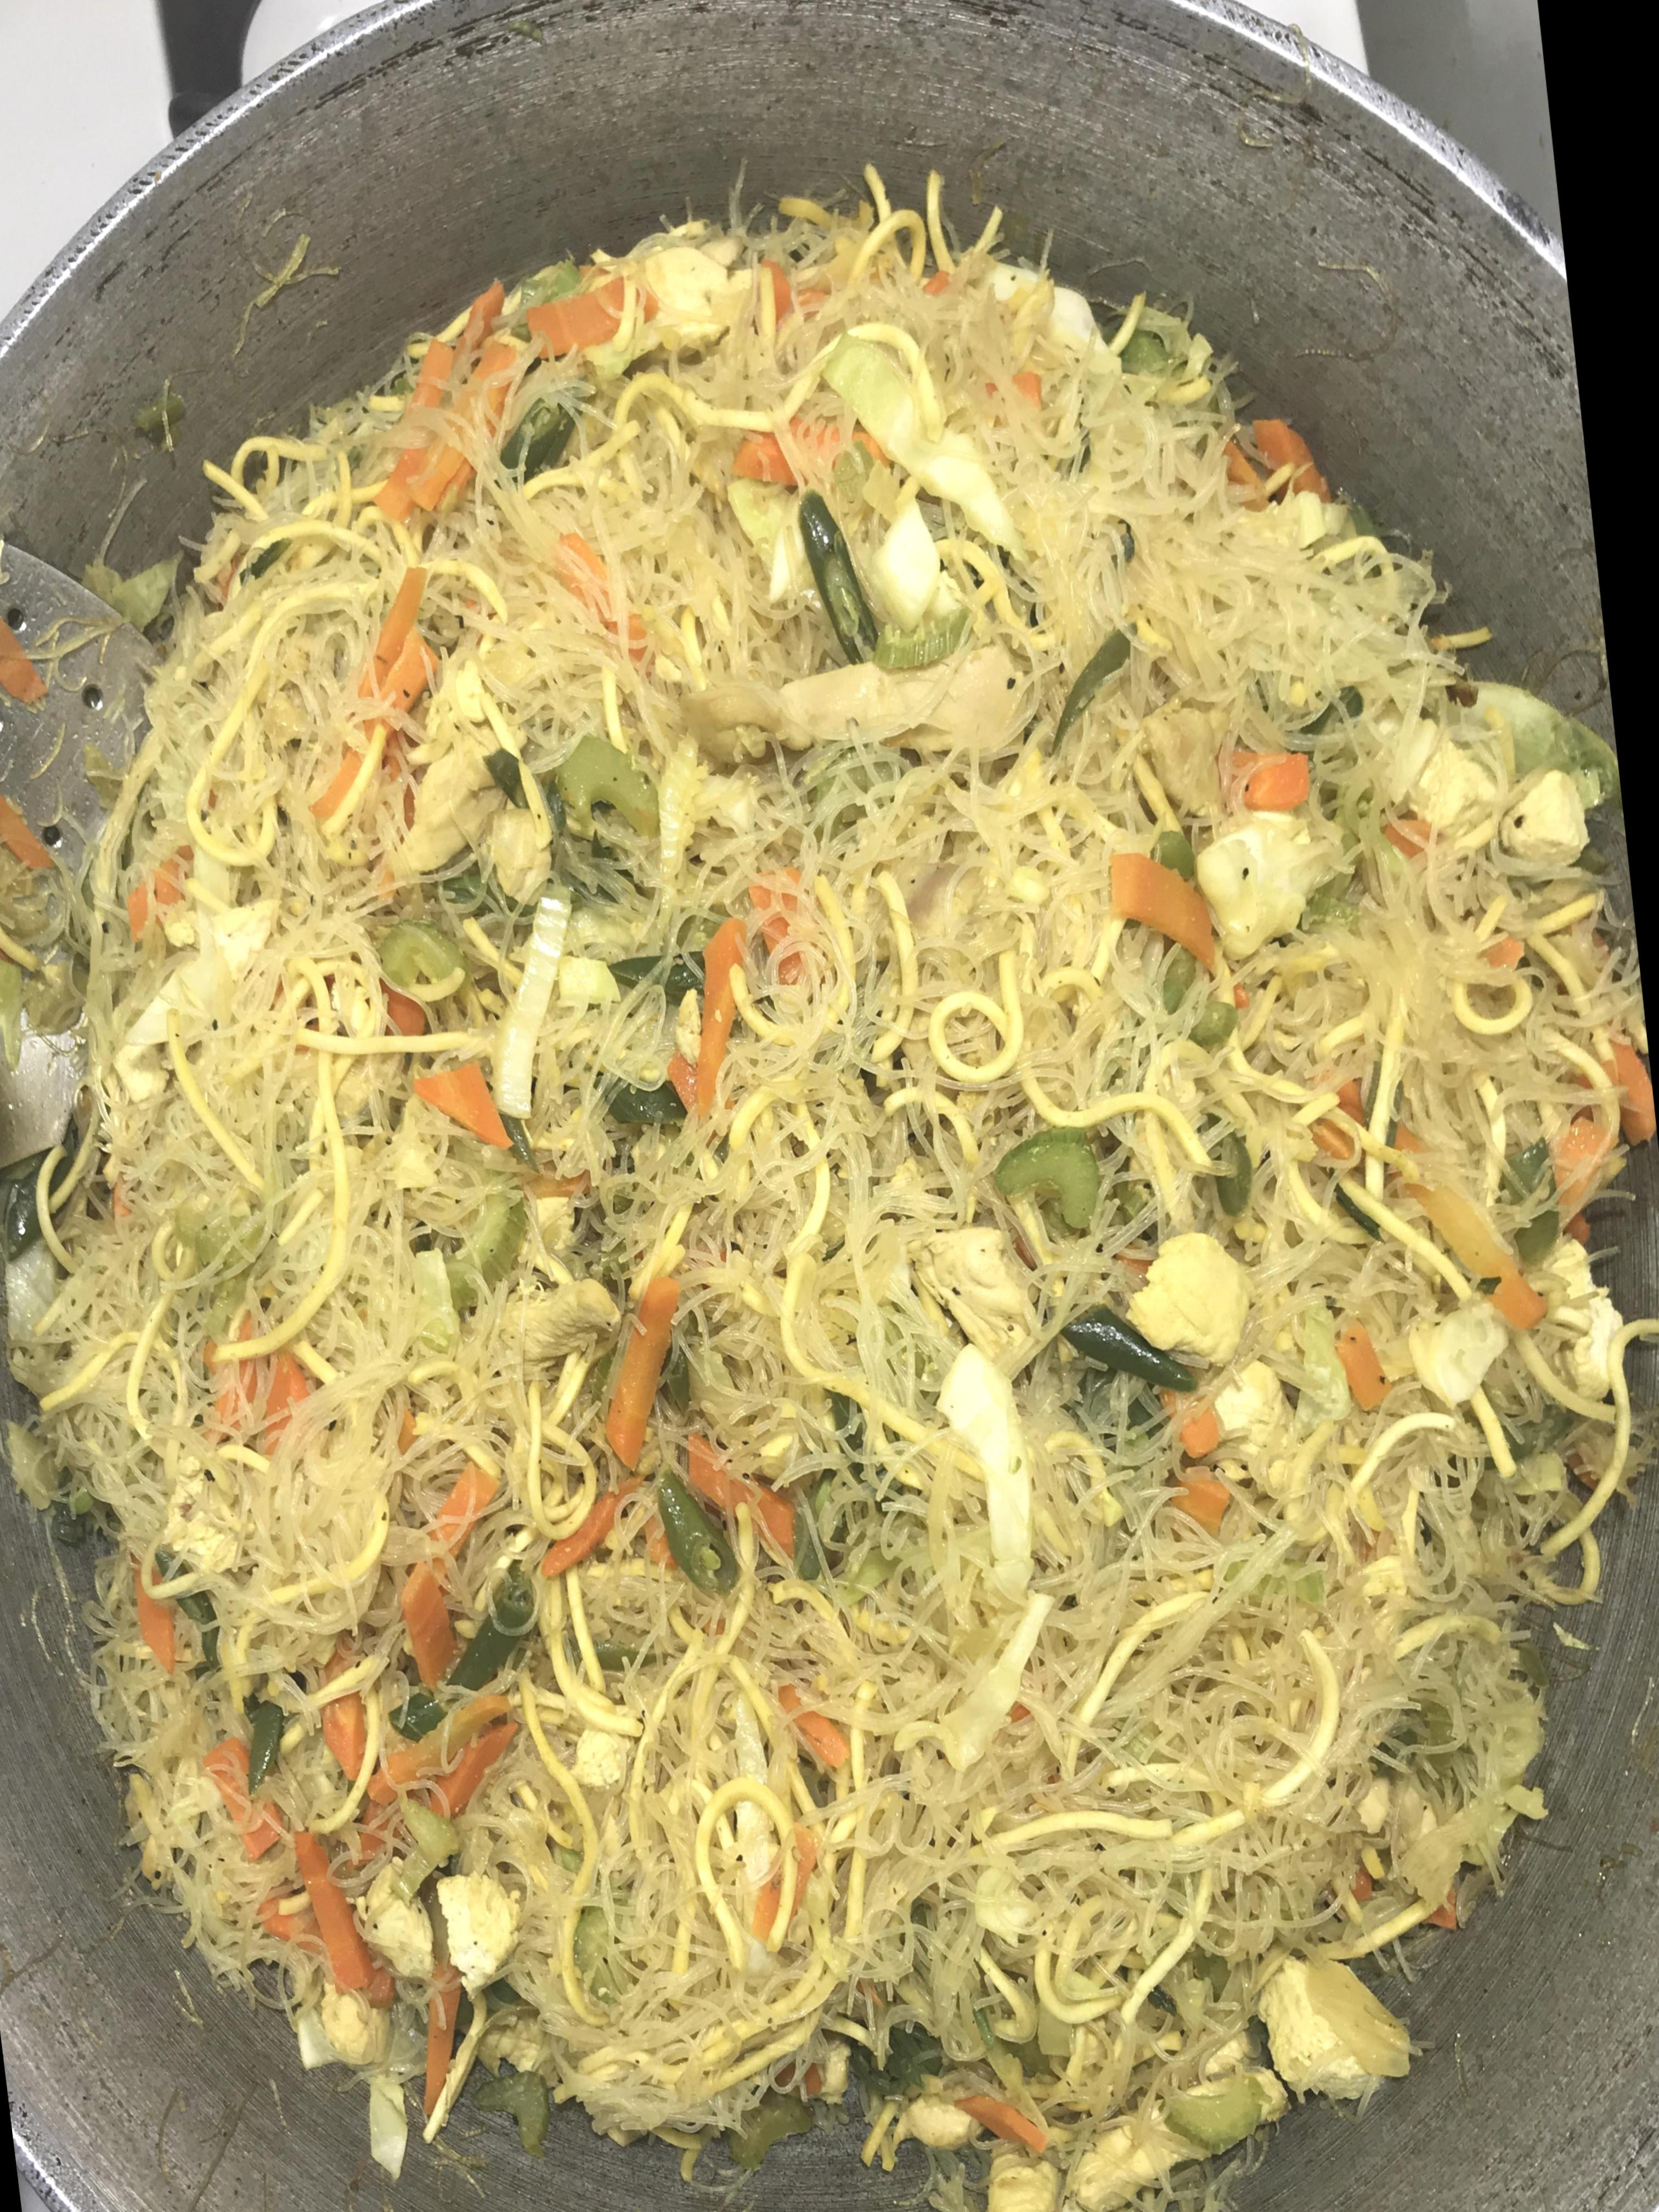pancit bihon: (10, 174, 1647, 2132)
